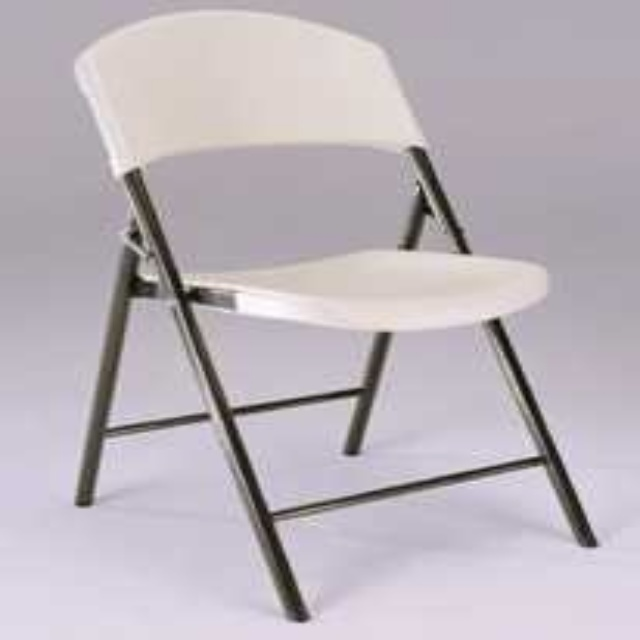obstacle: (75, 10, 593, 542), (177, 298, 304, 618)
